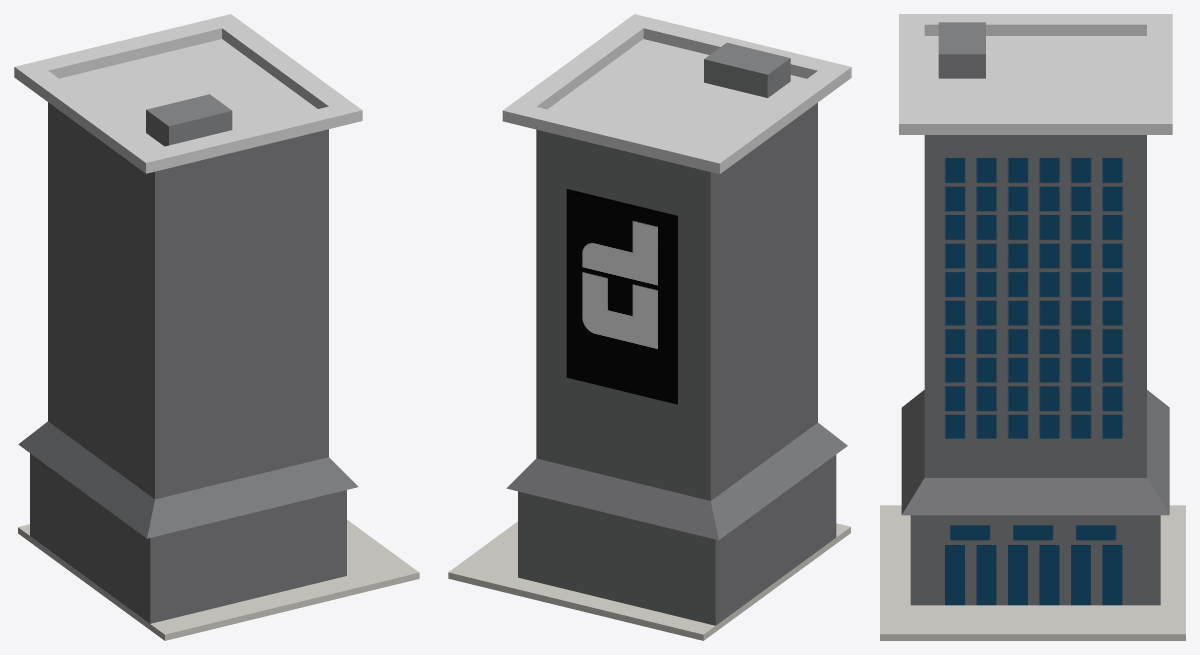
File: buildings_4.dae
3 renders of one model, left to right at view 1: azimuth 30°, elevation 25°; view 2: azimuth 150°, elevation 25°; view 3: azimuth 270°, elevation 25°, orthographic. The views are drawn at different scales.
Visible parts, largest first — view 1: group_0 (×6); view 2: group_0 (×7); view 3: group_0 (×9).
Boxes of the visible parts, box(x1,y1,x2,y2) form: group_0 (×6): box(14, 14, 419, 640); group_0 (×7): box(448, 14, 851, 640); group_0 (×9): box(880, 14, 1185, 640).
Bounding box in the file's own units: 139 × 134 × 244.
Materials: 6 (6 with a texture image).
